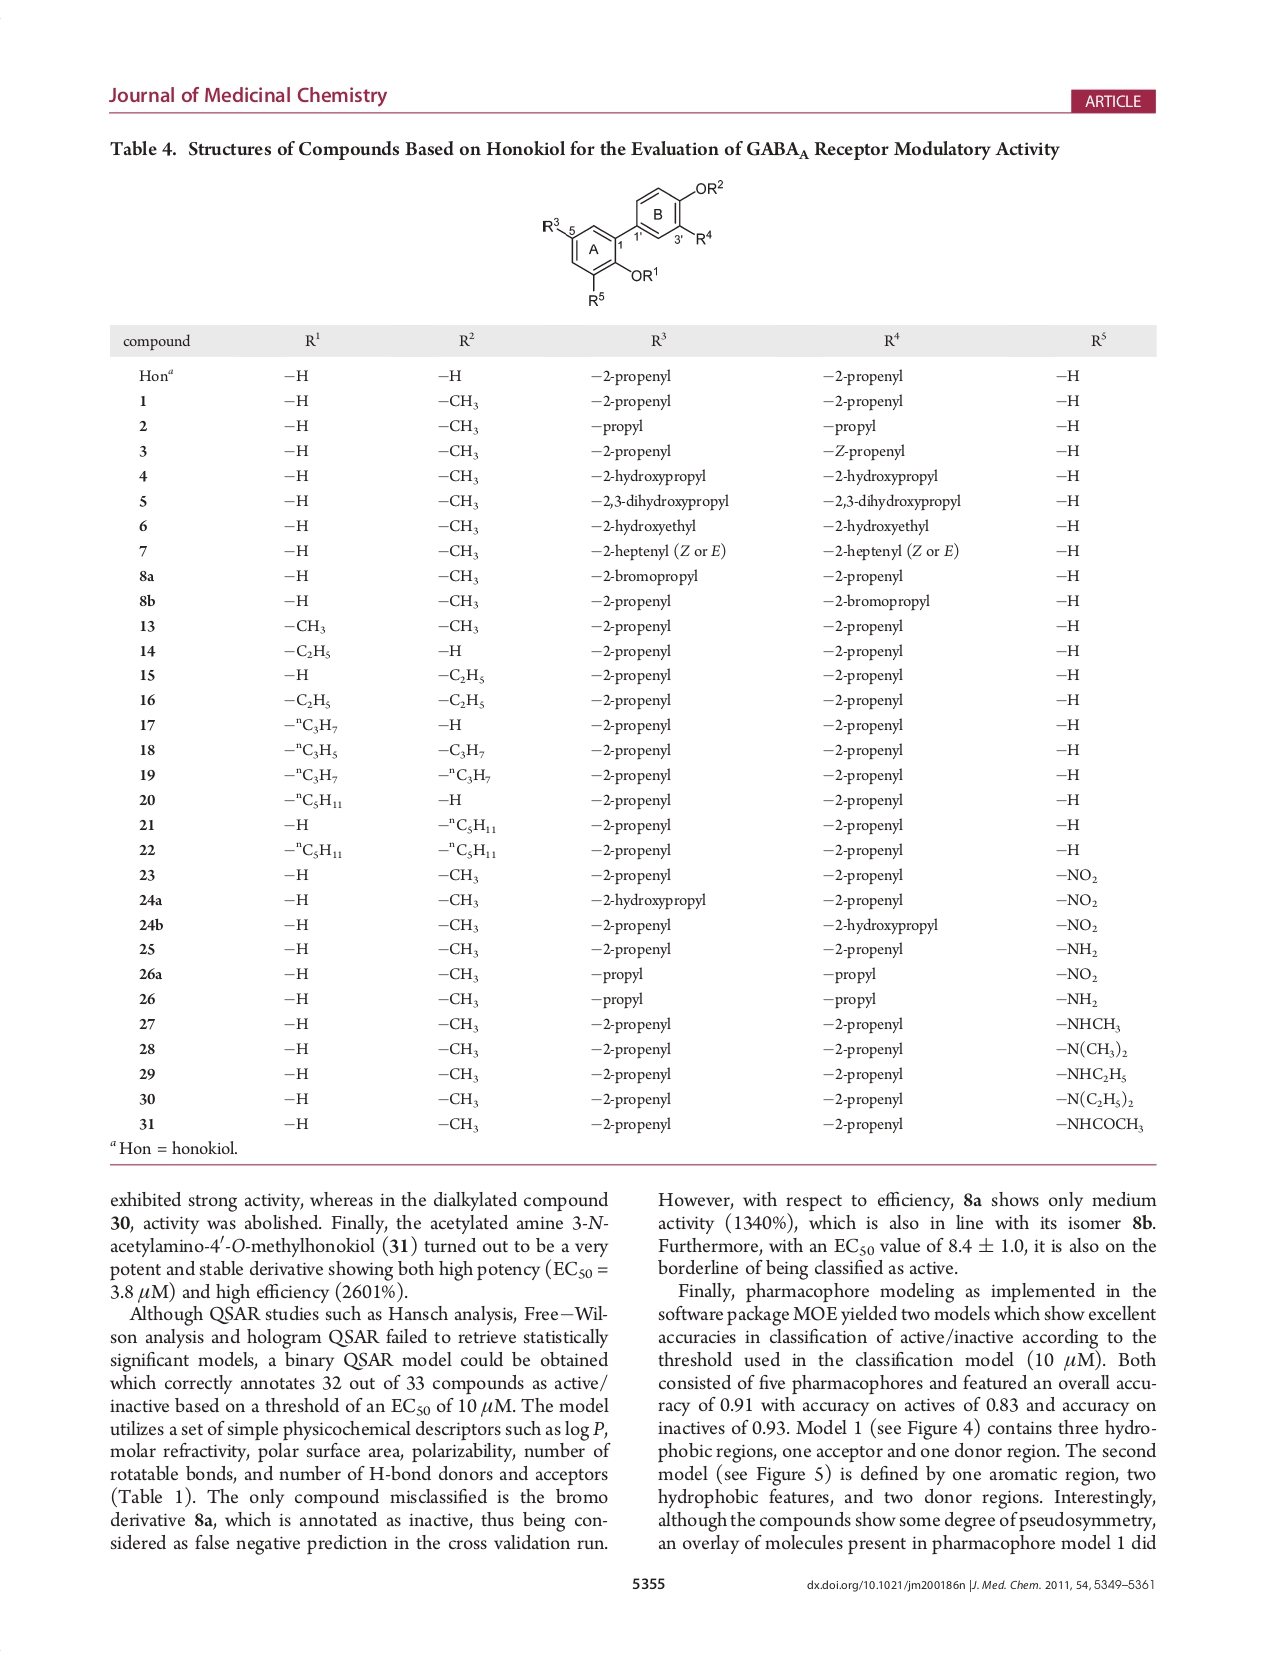exist_molecular: (541, 176, 727, 310)
